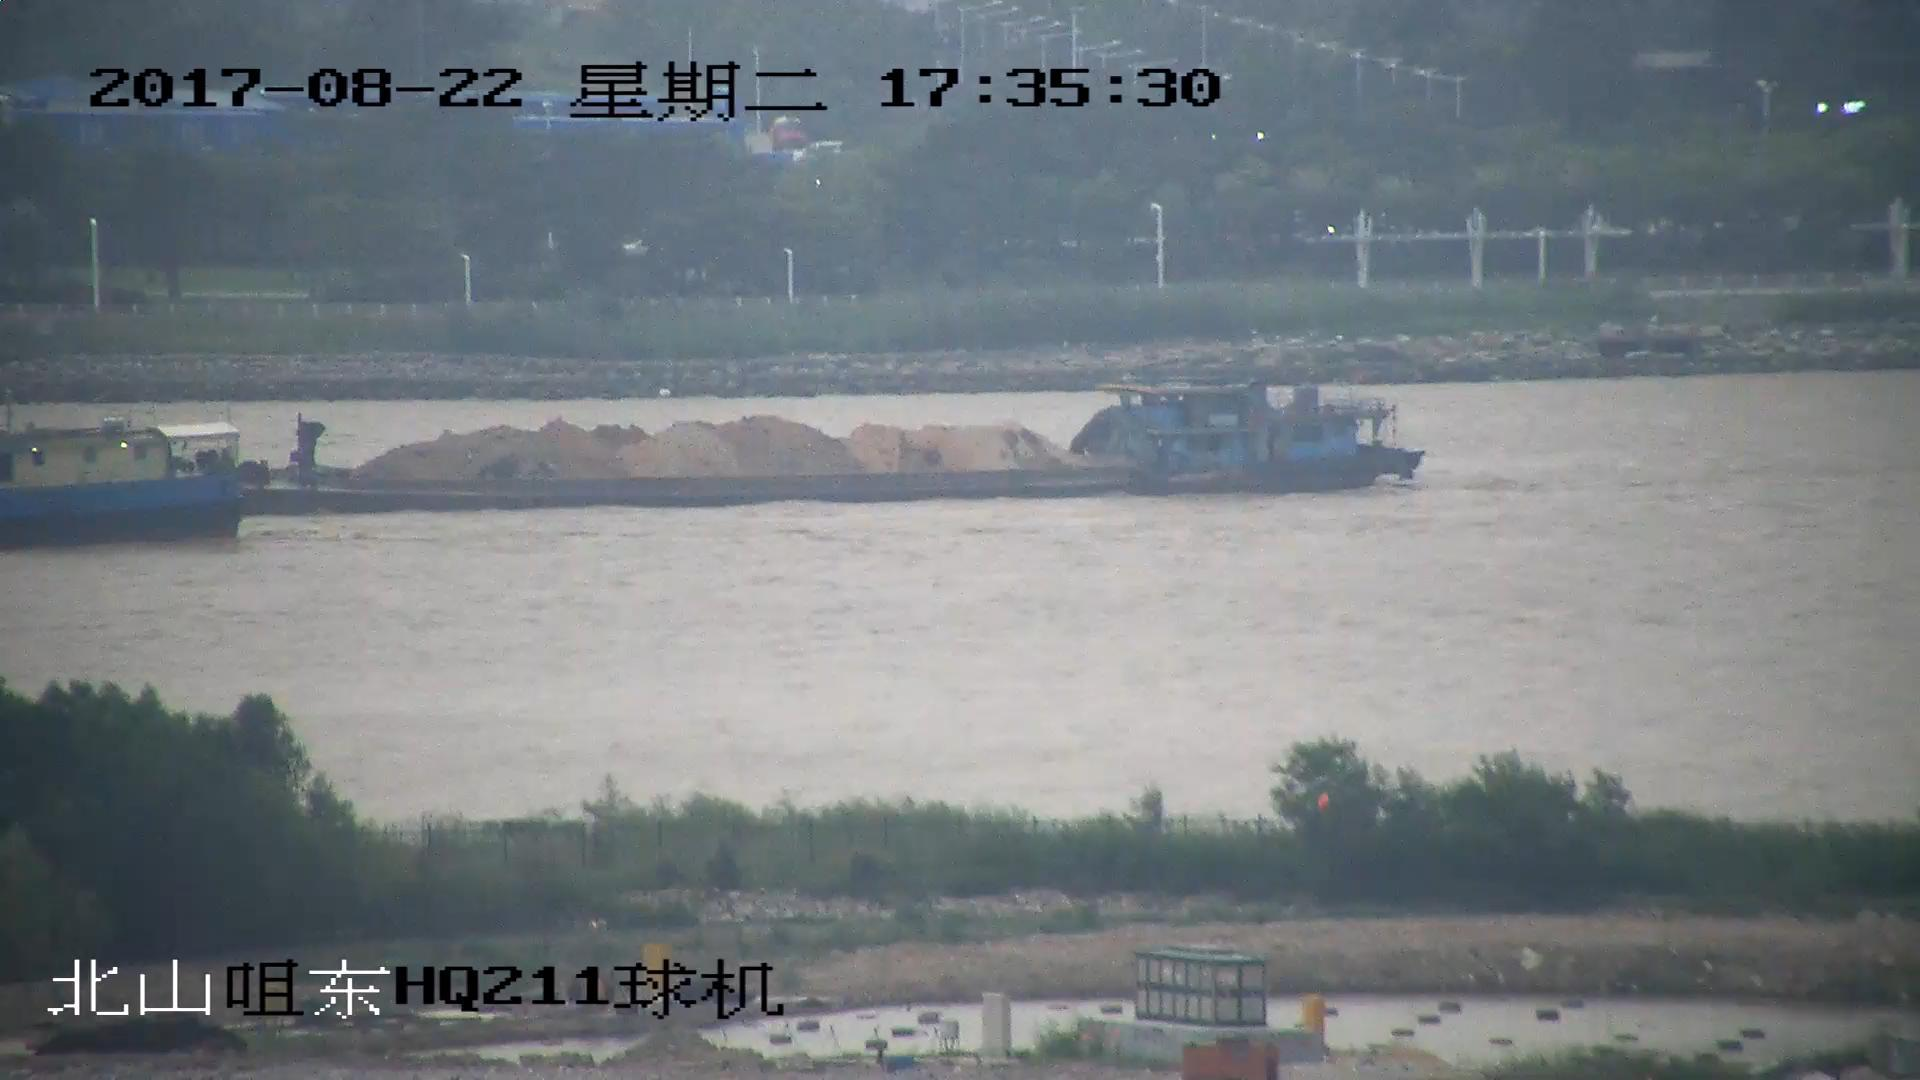Ship: (3, 380, 1425, 498), (3, 422, 266, 545)
